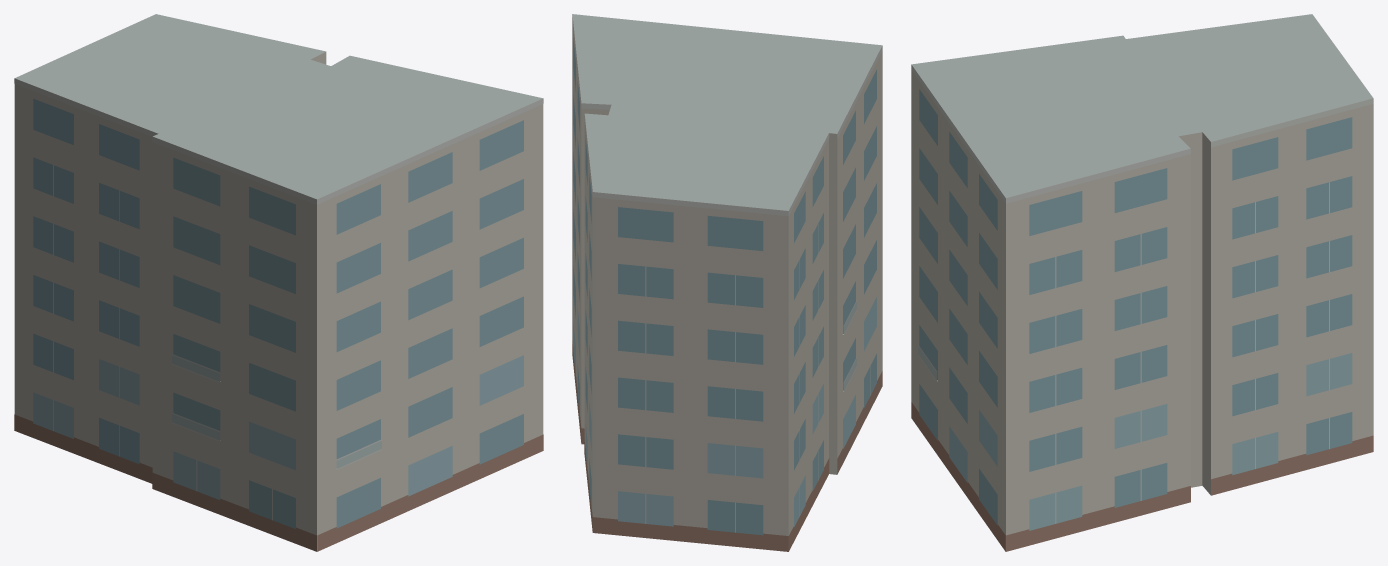
The model's file is survey-upis-32945152.glb.
3 views of the same model, side by side, from view 1: azimuth 30°, elevation 25°; view 2: azimuth 150°, elevation 25°; view 3: azimuth 270°, elevation 25° (orthographic). The views are drawn at different scales.
Visible parts, largest first — view 1: survey-upis-32945152.tmp; view 2: survey-upis-32945152.tmp; view 3: survey-upis-32945152.tmp.
Part boxes in pixels (x1=…): survey-upis-32945152.tmp: x1=14, y1=14, x2=543, y2=551; survey-upis-32945152.tmp: x1=572, y1=14, x2=882, y2=551; survey-upis-32945152.tmp: x1=911, y1=14, x2=1373, y2=551.
Size of the model in its own units: 17.66 by 15.8 by 18.72.
